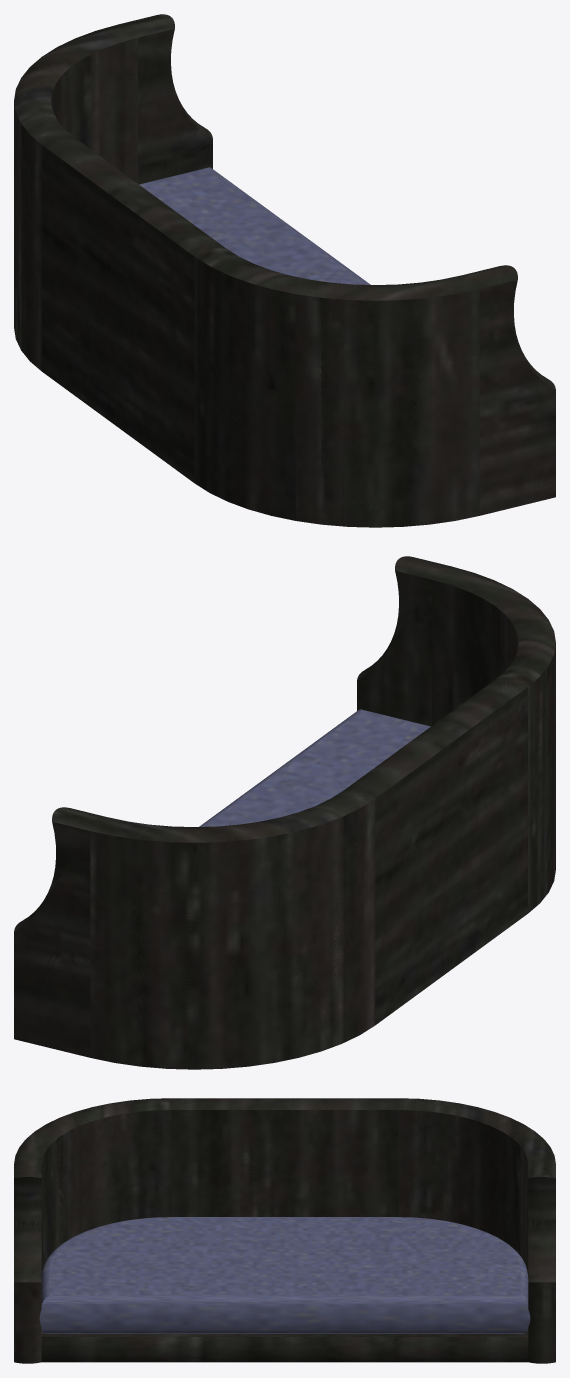
Rendered from sofa2.fbx.
3 renders of one model, top to bottom at view 1: azimuth 30°, elevation 25°; view 2: azimuth 150°, elevation 25°; view 3: azimuth 270°, elevation 25°, orthographic. The views are drawn at different scales.
Visible parts, largest first — view 1: group_1.001, group_2.001; view 2: group_1.001, group_2.001; view 3: group_1.001, group_2.001.
Part boxes in pixels (bbox=[...]): group_1.001: bbox=[14, 14, 555, 527]; group_2.001: bbox=[139, 167, 370, 284]; group_1.001: bbox=[14, 556, 555, 1069]; group_2.001: bbox=[199, 709, 430, 826]; group_1.001: bbox=[14, 1098, 555, 1363]; group_2.001: bbox=[39, 1217, 530, 1333].
Bounding box in the file's own units: 164 × 139 × 394.
